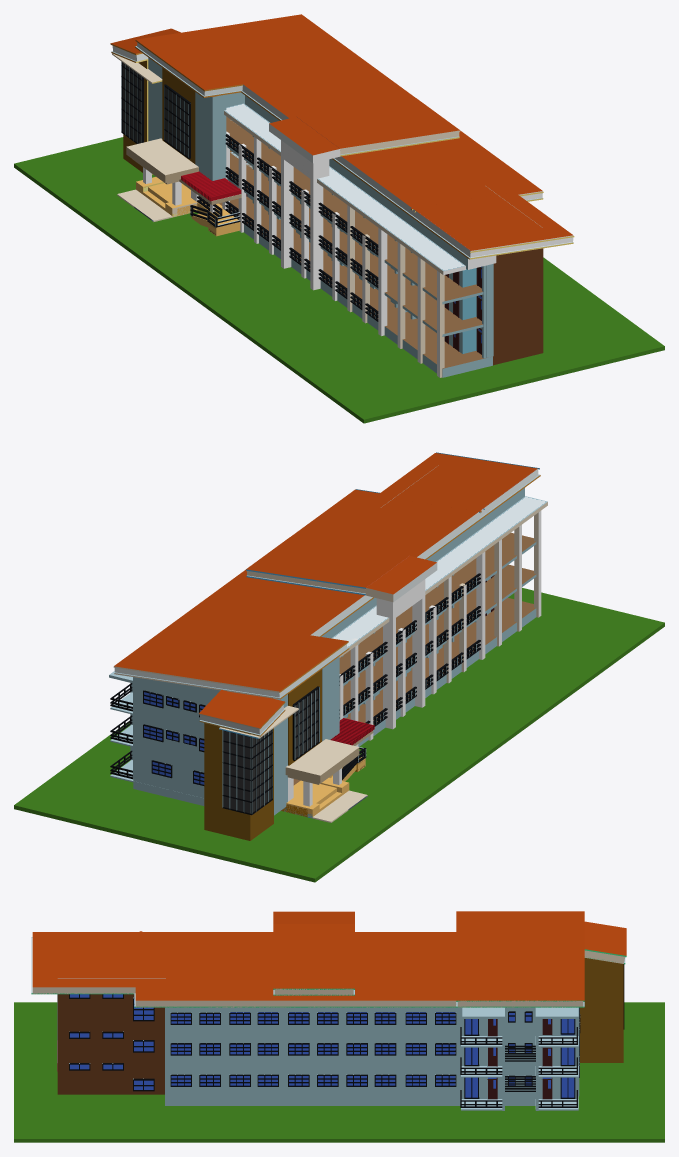
File: CAH.glb
The picture shows the model from 3 angles, top to bottom: view 1: azimuth 30°, elevation 25°; view 2: azimuth 150°, elevation 25°; view 3: azimuth 270°, elevation 25°; orthographic projection. The views are drawn at different scales.
Parts seen in each view (by area): view 1: cube.257; view 2: cube.257; view 3: cube.257.
Boxes of the visible parts, bbox=[...] form: cube.257: bbox=[14, 14, 664, 423]; cube.257: bbox=[14, 452, 664, 882]; cube.257: bbox=[14, 911, 664, 1142].
Bounding box in the file's own units: 15.12 × 6.94 × 30.44.
45 materials, 44 textured.
